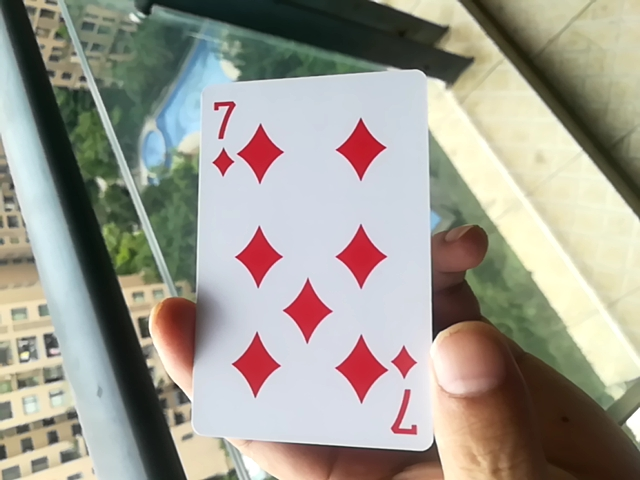fk 7: (189, 64, 436, 461)
